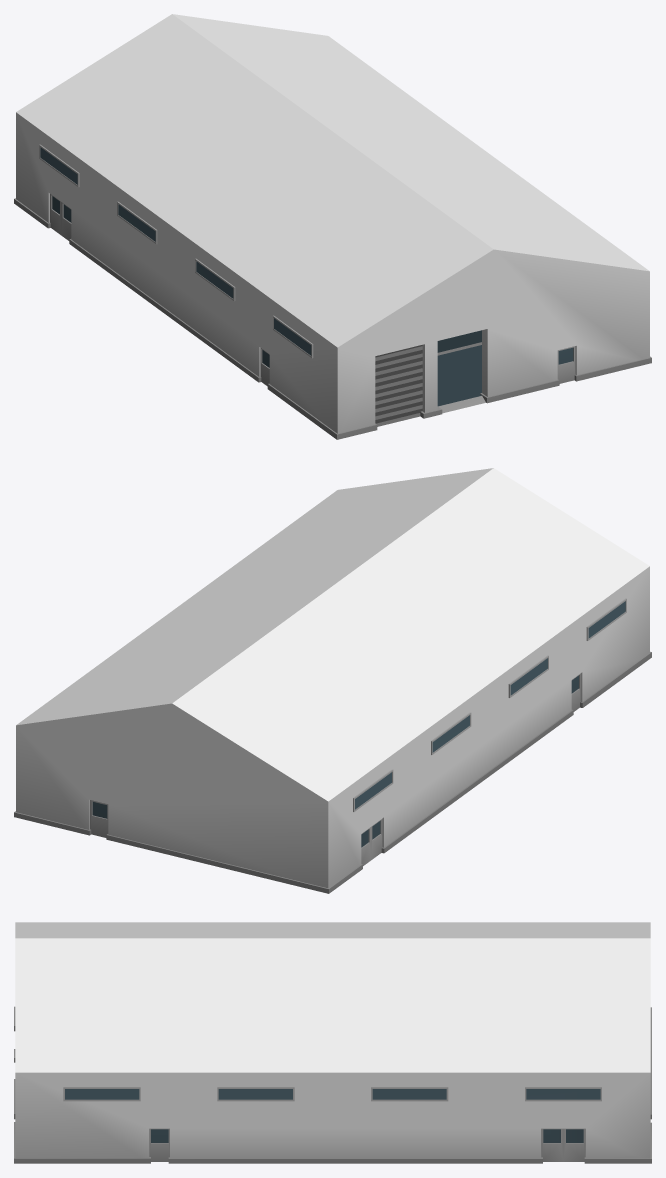
File: hangar_007.glb
3 views of the same model, one above another, from view 1: azimuth 30°, elevation 25°; view 2: azimuth 150°, elevation 25°; view 3: azimuth 270°, elevation 25° (orthographic).
Parts seen in each view (by area): view 1: hangar_007; view 2: hangar_007; view 3: hangar_007.
Part boxes in pixels (x1,y1,x2,y2): hangar_007: [14, 14, 651, 439]; hangar_007: [14, 468, 651, 893]; hangar_007: [14, 922, 651, 1163].
Size of the model in its own units: 23.72 by 10.91 by 42.15.
Materials: 1 (1 with a texture image).
